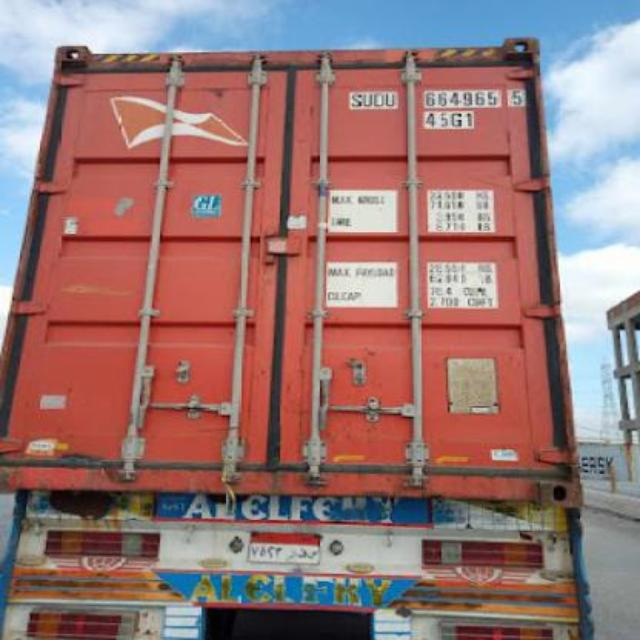4: (450, 90, 460, 106)
5: (511, 90, 524, 106), (488, 89, 496, 105)
6: (424, 90, 434, 110), (474, 92, 488, 106), (436, 92, 449, 106)
9: (464, 90, 474, 106)
D: (374, 92, 384, 108)
S: (352, 94, 360, 106)
U: (361, 94, 374, 108), (386, 92, 396, 108)
